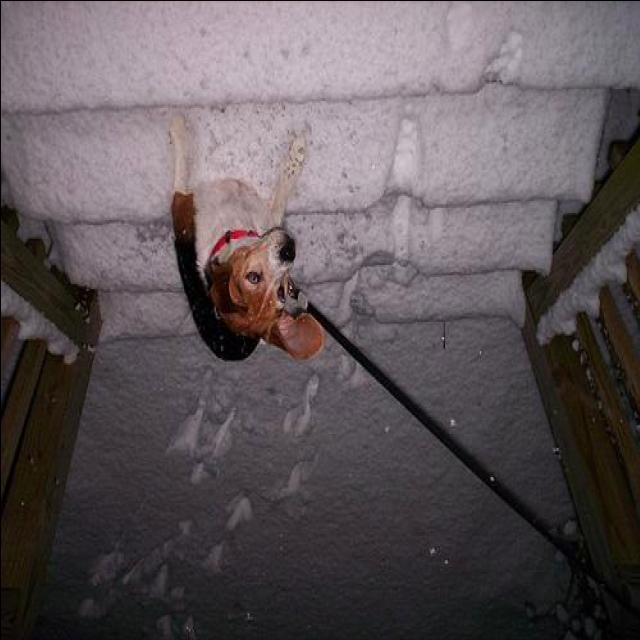beagle: (165, 105, 325, 364)
